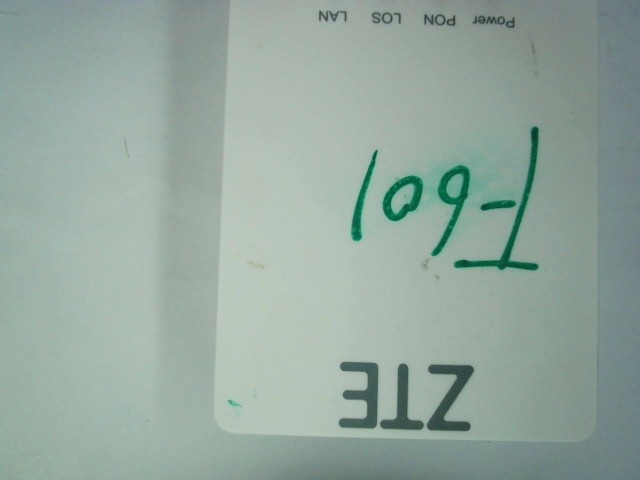AN_ZTE: (331, 351, 484, 430)
